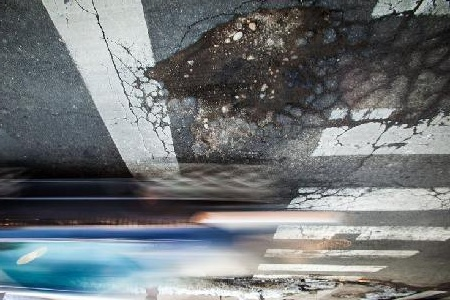pothole: (149, 3, 340, 123)
